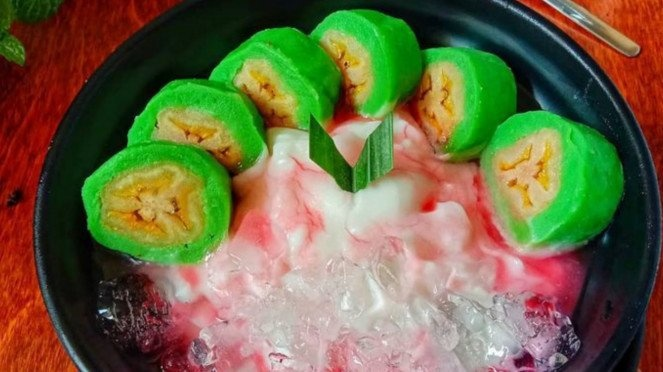pisang_ijo: (52, 132, 242, 274), (463, 119, 618, 261)
